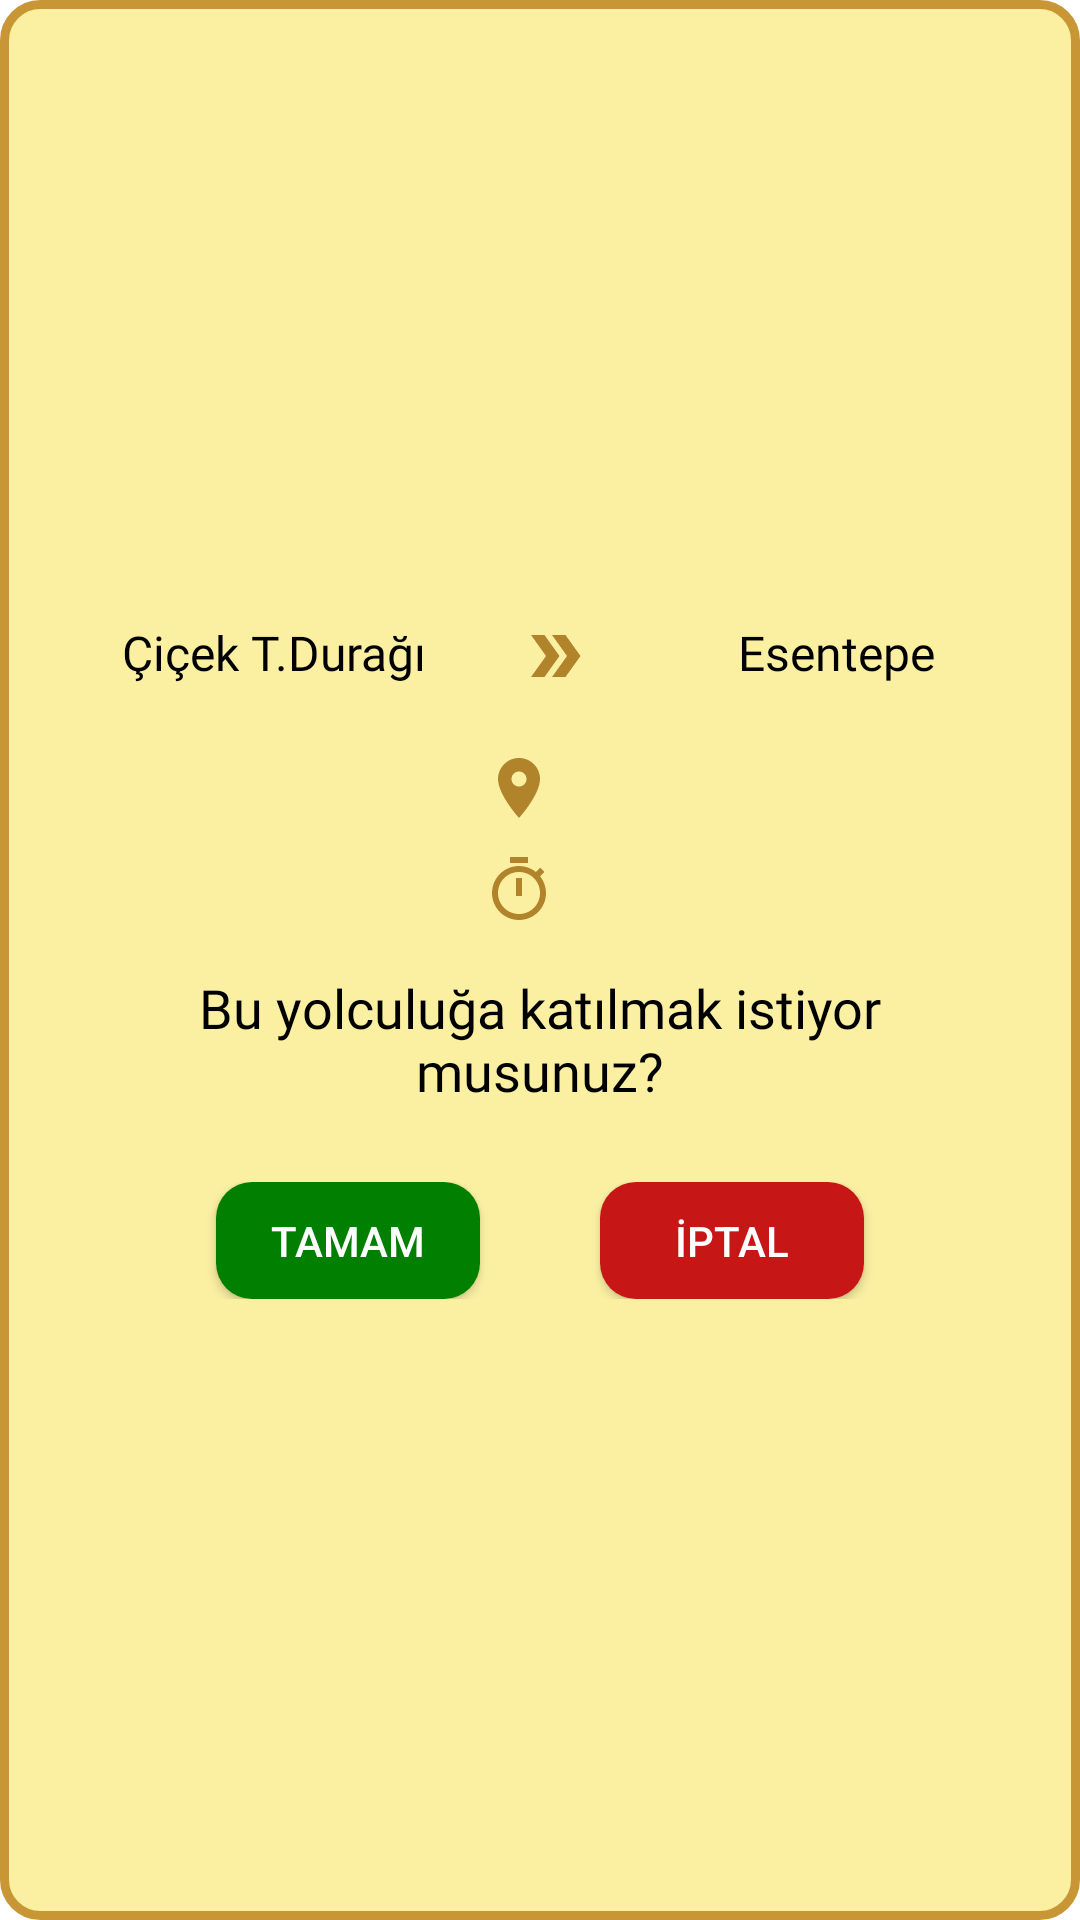

Screen size 1080px x 1920px. Icon name, then its box in pixels as (x1, y1, x2, y2):
double arrow: (531, 635, 580, 677)
location on: (498, 758, 540, 818)
timer: (492, 857, 546, 920)
